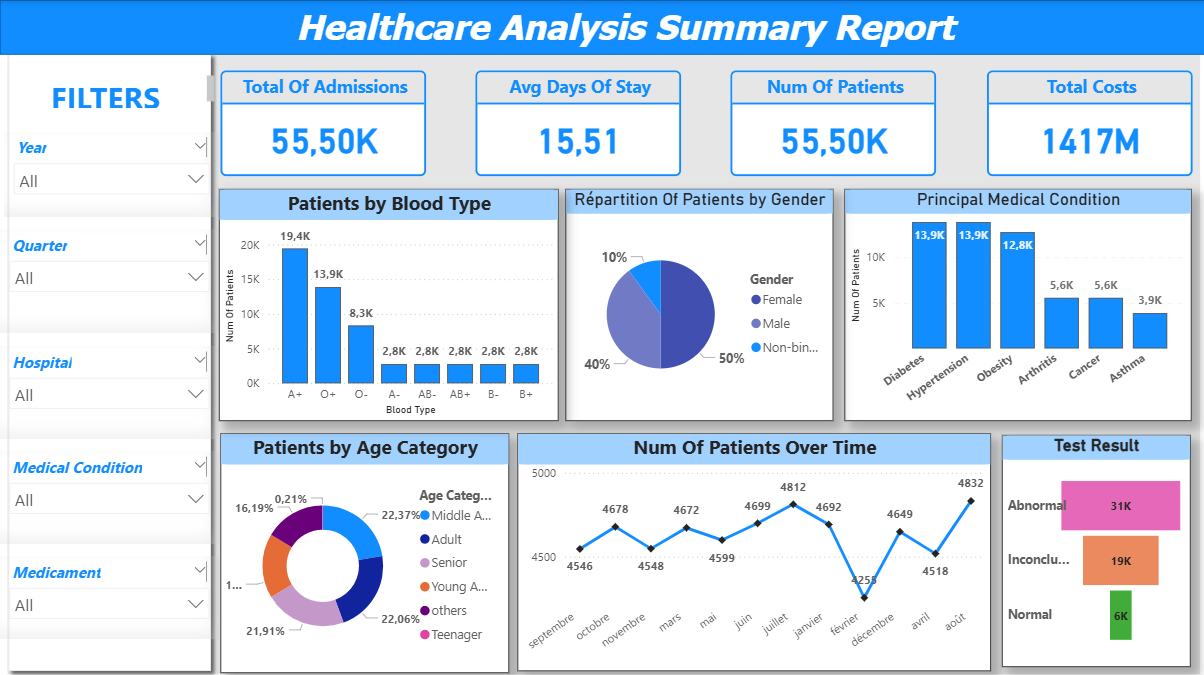

Layout of this report page (visuals, bound fields, positions):
{"tool":"powerbi","page":{"name":"Summary","canvas":[1280,720],"ordinal":0},"visuals":[{"type":"image","box":[0,34,1280,686],"z":0},{"type":"shape","box":[0,47.5,232.5,672.5],"z":1000},{"type":"shape","box":[0,0,1280,58],"z":2000},{"type":"textbox","box":[0,74,232,44],"z":3000},{"type":"textbox","box":[58,0,1222,58],"z":4000},{"type":"slicer","fields":{"Values":["Data.Year Of Admission"]},"box":[5,140,227.5,90],"z":5000},{"type":"slicer","fields":{"Values":["Data.Quarter Of Admission"]},"box":[0,243.5,232,110],"z":6000},{"type":"slicer","fields":{"Values":["Data.Hospital"]},"box":[0,367,232,98],"z":7000},{"type":"slicer","fields":{"Values":["Data.Medication"]},"box":[0,590,232,88],"z":8000},{"type":"card","title":"Total Of Admissions","fields":{"Values":["Data.Total Of Admissions"]},"box":[234,74,218,112],"z":9000},{"type":"card","title":"Avg Days Of Stay","fields":{"Values":["Avg(Data.Duration)"]},"box":[504.7,74,218,112],"z":10000},{"type":"card","title":"Num Of Patients","fields":{"Values":["Data.Num Of Patients"]},"box":[775.3,74,218,112],"z":11000},{"type":"card","title":"Total Costs","fields":{"Values":["Data.Total Of Costs"]},"box":[1046,74,218,112],"z":12000},{"type":"columnChart","title":"Principal Medical Condition","fields":{"Category":["Data.Medical Condition"],"Y":["Data.Num Of Patients"]},"box":[896,200,368,246],"z":13000},{"type":"pieChart","title":"Répartition Of Patients by Gender","fields":{"Category":["Data.Gender"],"Y":["Data.Num Of Patients"]},"box":[600,200,284,246],"z":14000},{"type":"donutChart","title":"Patients by Age Category","fields":{"Y":["Data.Num Of Patients"],"Category":["Data.Age Category"]},"box":[234,460,306,254],"z":15000},{"type":"slicer","fields":{"Values":["Data.Medical Condition"]},"box":[0,478.5,232,98],"z":16000},{"type":"columnChart","title":"Patients by Blood Type","fields":{"Category":["Data.Blood Type"],"Y":["Data.Num Of Patients"]},"box":[232,200,360,246],"z":17000},{"type":"lineChart","title":"Num Of Patients Over Time","fields":{"Y":["Data.Num Of Patients"],"Category":["Data.Month Of Admission"]},"box":[548,460,502,252],"z":18000},{"type":"funnel","title":"Test Result","fields":{"Category":["Data.Test Results"],"Y":["Data.Num Of Patients"]},"box":[1062,462,200,246],"z":19000}]}

Visuals, with their boxes in screenshot pixels (x1, y1, x2, y2), scaled from the page's 1280x720 canvas onto the 1204x675 screenshot:
image: select_region(0, 32, 1203, 674)
shape: select_region(0, 45, 219, 674)
shape: select_region(0, 0, 1203, 54)
textbox: select_region(0, 69, 218, 111)
textbox: select_region(55, 0, 1203, 54)
slicer - Data.Year Of Admission: select_region(5, 131, 219, 216)
slicer - Data.Quarter Of Admission: select_region(0, 228, 218, 331)
slicer - Data.Hospital: select_region(0, 344, 218, 436)
slicer - Data.Medication: select_region(0, 553, 218, 636)
"Total Of Admissions" card: select_region(220, 69, 425, 174)
"Avg Days Of Stay" card: select_region(475, 69, 680, 174)
"Num Of Patients" card: select_region(729, 69, 934, 174)
"Total Costs" card: select_region(984, 69, 1189, 174)
"Principal Medical Condition" columnChart: select_region(843, 188, 1189, 418)
"Répartition Of Patients by Gender" pieChart: select_region(564, 188, 832, 418)
"Patients by Age Category" donutChart: select_region(220, 431, 508, 669)
slicer - Data.Medical Condition: select_region(0, 449, 218, 540)
"Patients by Blood Type" columnChart: select_region(218, 188, 557, 418)
"Num Of Patients Over Time" lineChart: select_region(515, 431, 988, 668)
"Test Result" funnel: select_region(999, 433, 1187, 664)
